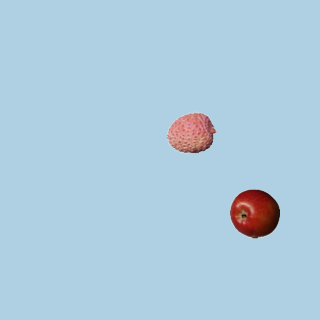Apple Braeburn: (229, 188, 279, 238)
Lychee: (166, 107, 216, 157)
